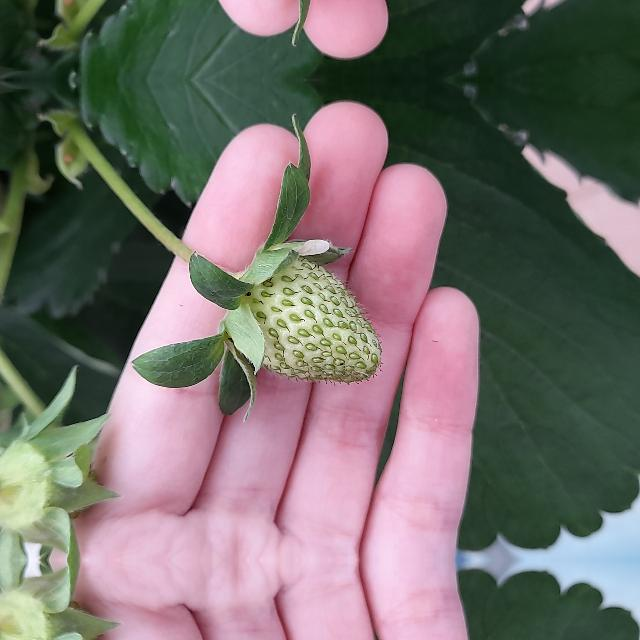Health_25: (240, 258, 382, 382)
